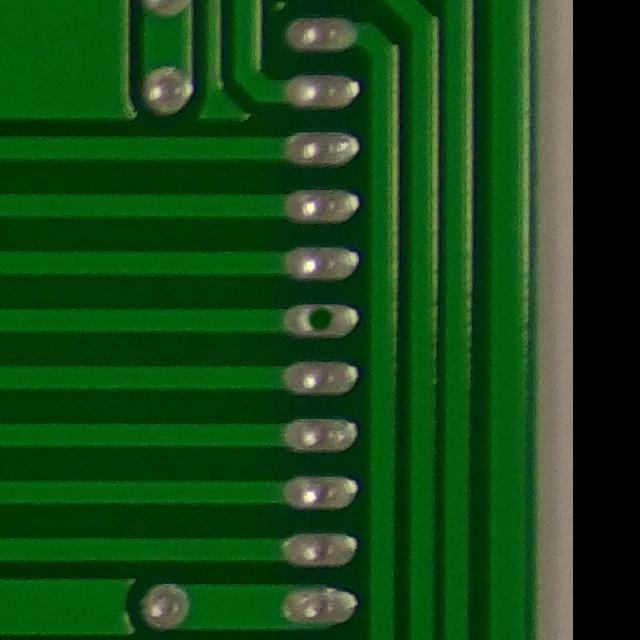missing_hole: (287, 290, 353, 351)
